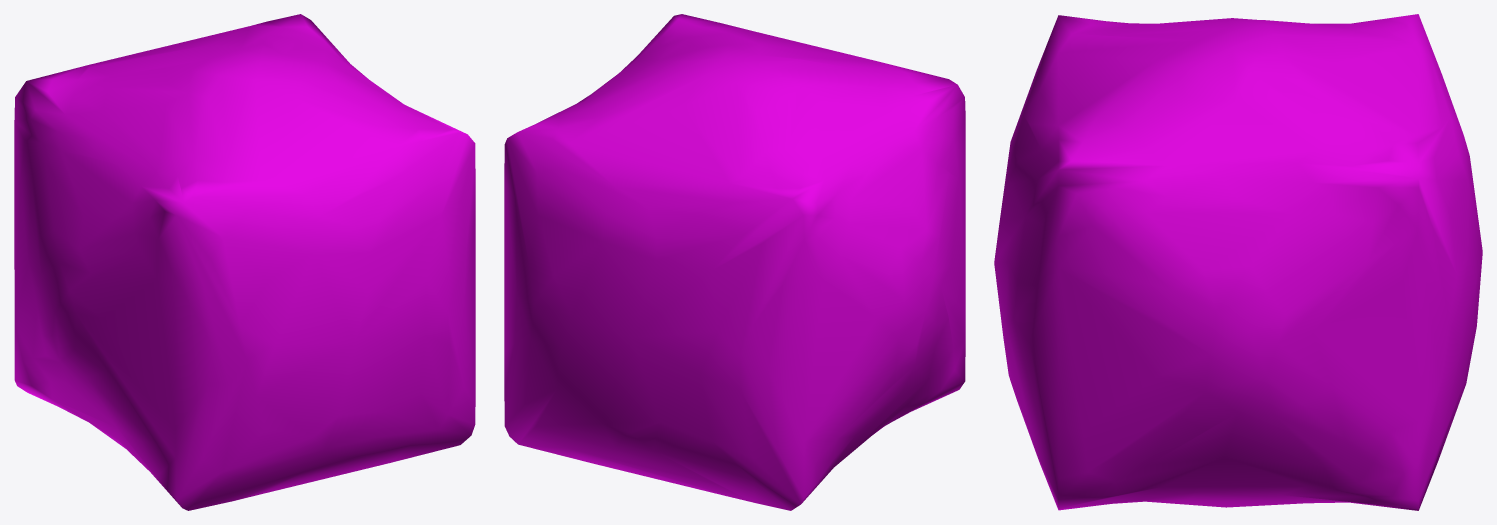
3 renders of one model, left to right at view 1: azimuth 30°, elevation 25°; view 2: azimuth 150°, elevation 25°; view 3: azimuth 270°, elevation 25°, orthographic. The views are drawn at different scales.
Visible parts, largest first — view 1: Cube v3; view 2: Cube v3; view 3: Cube v3.
Boxes of the visible parts, x1,y1,x2,y2 form: Cube v3: (14, 14, 475, 510); Cube v3: (504, 14, 965, 510); Cube v3: (994, 14, 1482, 510).
Size of the model in its own units: 24.11 by 24.13 by 24.13.
